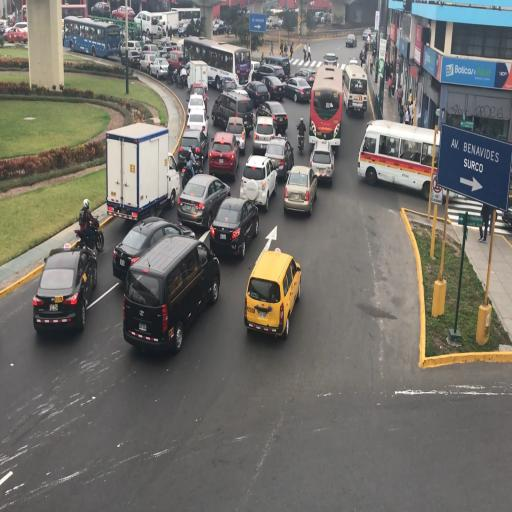auto: (122, 232, 217, 354), (112, 215, 193, 284), (33, 244, 95, 333), (243, 247, 299, 338), (122, 278, 169, 351), (208, 194, 258, 258), (176, 172, 230, 230), (241, 155, 277, 211), (283, 164, 316, 216), (212, 91, 251, 134), (208, 130, 242, 178), (264, 134, 294, 182), (179, 128, 210, 172), (309, 141, 334, 187), (257, 100, 288, 135), (252, 114, 276, 154), (224, 116, 248, 156), (257, 74, 285, 100), (244, 80, 270, 107), (285, 76, 311, 102), (186, 104, 207, 136), (254, 63, 282, 85), (3, 22, 28, 44), (148, 56, 170, 81), (294, 66, 318, 88), (187, 92, 207, 118), (167, 48, 187, 74), (139, 52, 157, 74), (112, 5, 134, 21), (90, 1, 110, 17), (157, 40, 177, 54), (212, 18, 227, 35), (323, 52, 338, 66), (345, 33, 357, 48), (141, 43, 157, 54), (370, 30, 378, 47), (266, 16, 273, 30)
bus: (359, 118, 441, 201), (184, 36, 246, 88), (309, 64, 342, 148), (63, 16, 120, 58), (344, 58, 368, 117), (164, 6, 201, 36), (133, 10, 163, 37)
camion: (105, 121, 172, 226), (186, 59, 208, 96)
moto: (75, 212, 104, 253), (297, 129, 305, 154)
